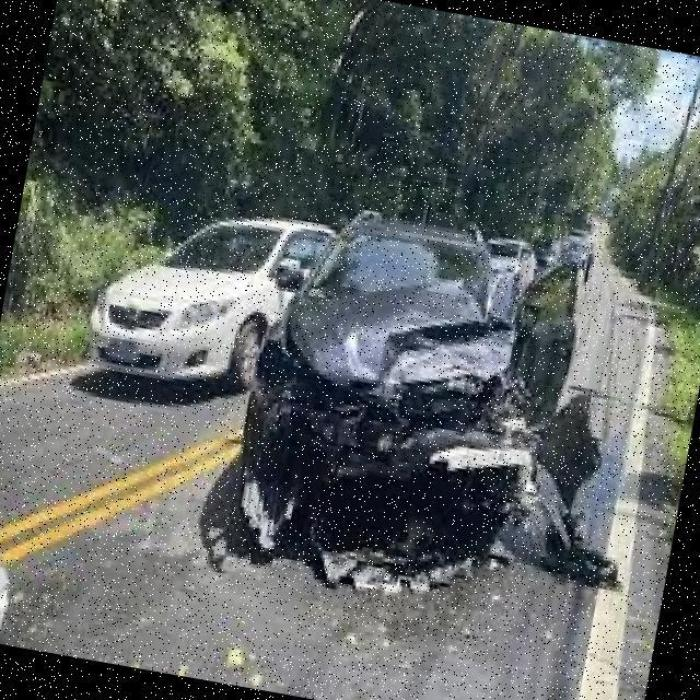Accident: (220, 250, 663, 648)
